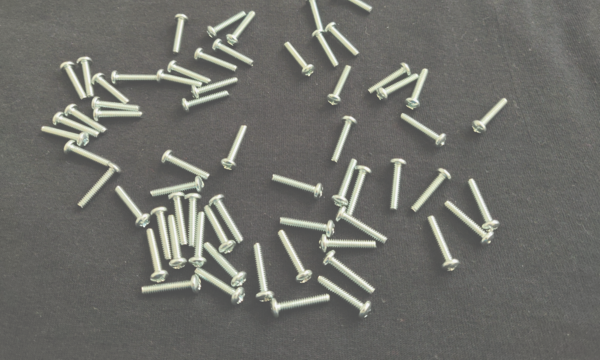longscrew: (315, 275, 373, 320), (322, 249, 377, 295), (444, 200, 496, 247), (76, 162, 123, 210), (423, 215, 462, 272), (335, 206, 391, 245), (203, 241, 248, 288), (277, 229, 314, 285), (193, 268, 247, 306), (410, 168, 452, 214), (208, 194, 245, 246), (468, 177, 502, 233), (401, 112, 449, 149), (203, 204, 237, 256), (114, 185, 152, 229), (161, 149, 211, 182), (270, 293, 331, 320), (142, 228, 170, 283), (271, 173, 325, 201), (368, 62, 412, 96), (140, 274, 202, 298), (331, 158, 360, 209), (63, 140, 113, 169), (64, 103, 110, 134), (346, 165, 373, 217), (253, 242, 276, 303), (150, 175, 206, 200), (221, 124, 250, 172), (331, 115, 359, 164), (52, 111, 102, 138), (91, 72, 131, 105), (325, 21, 361, 57), (377, 73, 420, 103), (474, 98, 509, 134), (318, 233, 378, 254), (279, 217, 336, 239), (188, 210, 209, 269), (181, 89, 230, 114), (168, 212, 189, 270), (212, 38, 255, 66), (311, 29, 341, 69), (206, 10, 247, 39), (282, 41, 315, 77), (150, 206, 172, 260), (225, 10, 257, 47), (191, 76, 239, 100), (193, 47, 239, 72), (327, 64, 353, 107), (60, 61, 88, 100), (167, 60, 212, 84), (41, 126, 90, 148), (405, 67, 430, 110), (184, 192, 203, 248), (169, 191, 188, 247), (388, 158, 408, 211), (156, 69, 203, 89), (93, 106, 145, 123), (77, 56, 96, 99), (111, 70, 159, 87), (91, 96, 141, 112), (171, 13, 189, 56), (305, 0, 326, 34), (333, 0, 374, 14)
